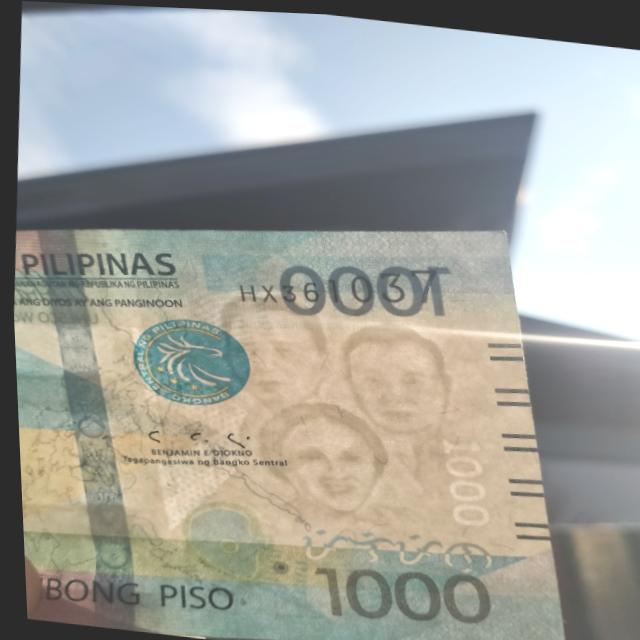see_through_mark: (290, 517, 500, 577)
value_watermark: (425, 424, 503, 530)
watermark: (201, 289, 455, 527)
